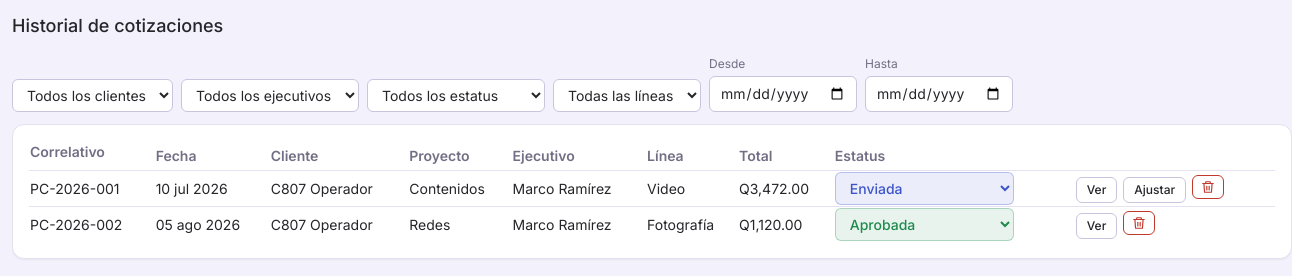
Test: HistorialPage › filters by a date range
The width and height of the screenshot is (1292, 276).
Expected: the text "PC-2026-001" is shown, x1=29 y1=170 x2=155 y2=206
In the date field with id "hist_desde": [783, 94] box x1=709 y1=76 x2=857 y2=112, type "2026-08-01"
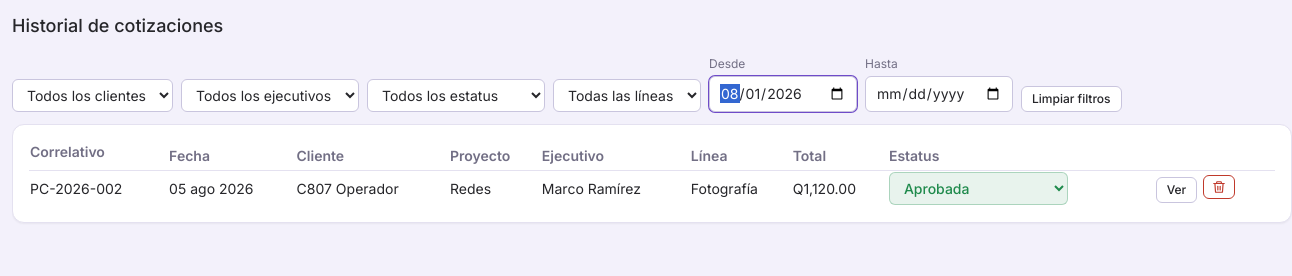
Expected: the text "PC-2026-002" is shown, x1=29 y1=170 x2=168 y2=206
Result: the text "PC-2026-001" is gone
